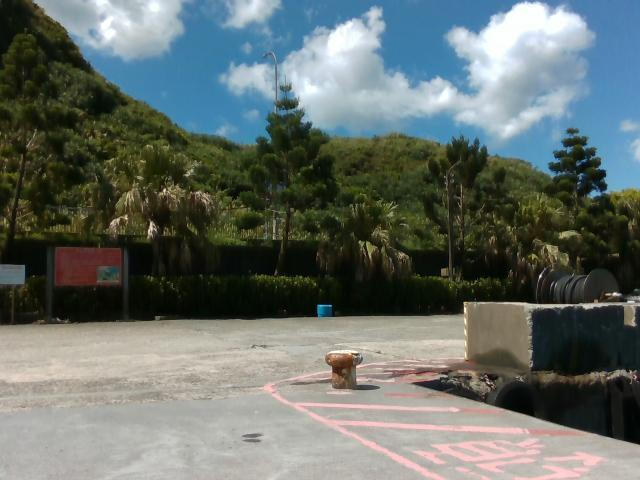pollute: (314, 304, 333, 319)
